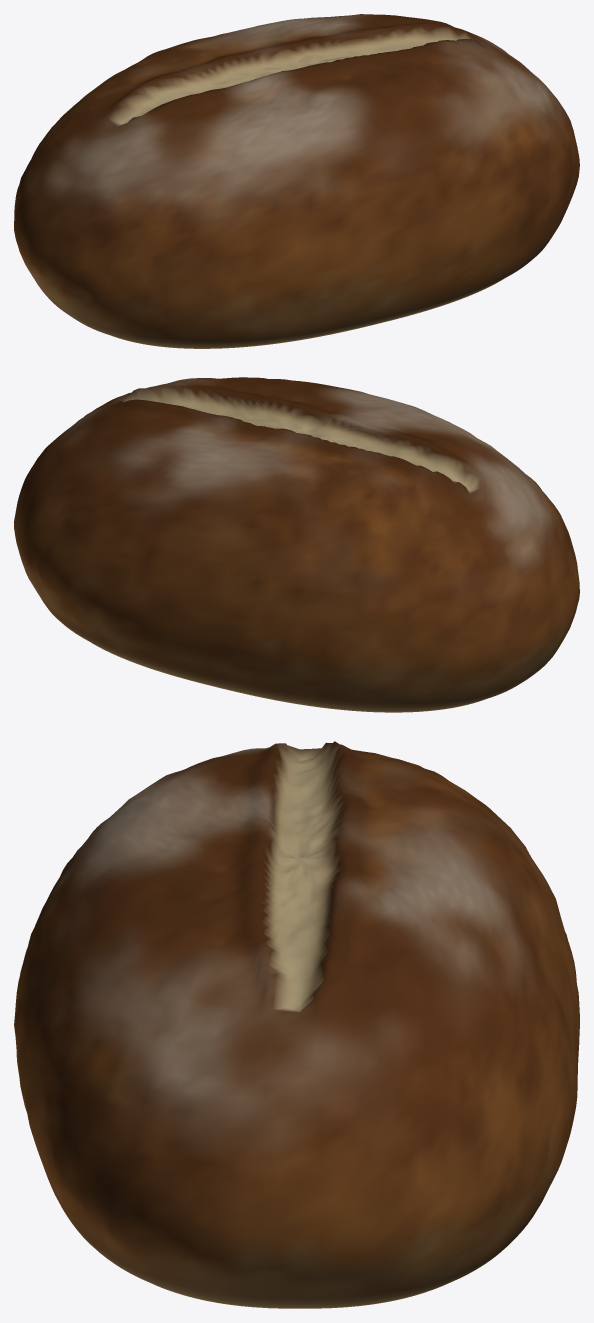
Rendered from hildegard-von-bingen-500g.glb.
3 views of the same model, one above another, from view 1: azimuth 30°, elevation 25°; view 2: azimuth 150°, elevation 25°; view 3: azimuth 270°, elevation 25° (orthographic). The views are drawn at different scales.
Visible parts, largest first — view 1: hildegard-von-bingen-500g; view 2: hildegard-von-bingen-500g; view 3: hildegard-von-bingen-500g.
Part boxes in pixels (x1,y1,x2,y2): hildegard-von-bingen-500g: [14, 14, 579, 348]; hildegard-von-bingen-500g: [14, 377, 579, 712]; hildegard-von-bingen-500g: [14, 741, 579, 1308].
Size of the model in its own units: 0.22 by 0.085 by 0.14.
